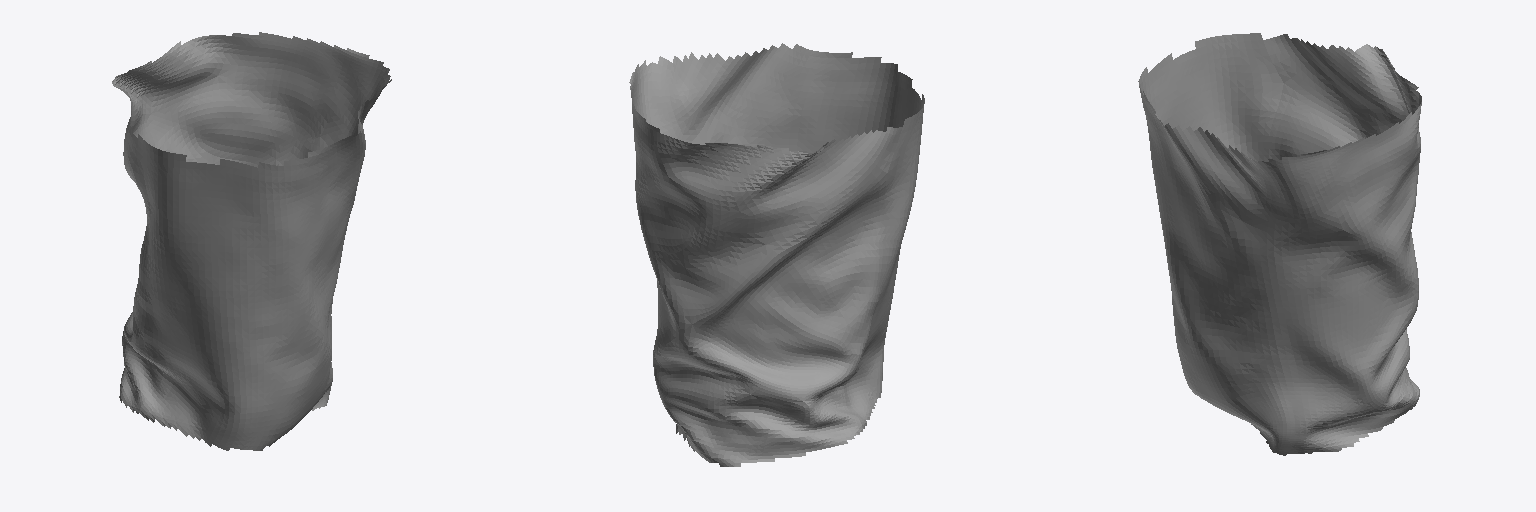
The model's file is muslo1.obj.
The picture shows the model from 3 angles: view 1: azimuth 30°, elevation 25°; view 2: azimuth 150°, elevation 25°; view 3: azimuth 270°, elevation 25°; orthographic projection.
Visible parts, largest first — view 1: RUST_3d_Low.001; view 2: RUST_3d_Low.001; view 3: RUST_3d_Low.001.
Boxes of the visible parts, x1=… form: RUST_3d_Low.001: x1=112, y1=32, x2=391, y2=450; RUST_3d_Low.001: x1=629, y1=43, x2=924, y2=466; RUST_3d_Low.001: x1=1138, y1=33, x2=1421, y2=455.
Size of the model in its own units: 18.6 by 22.86 by 17.78.